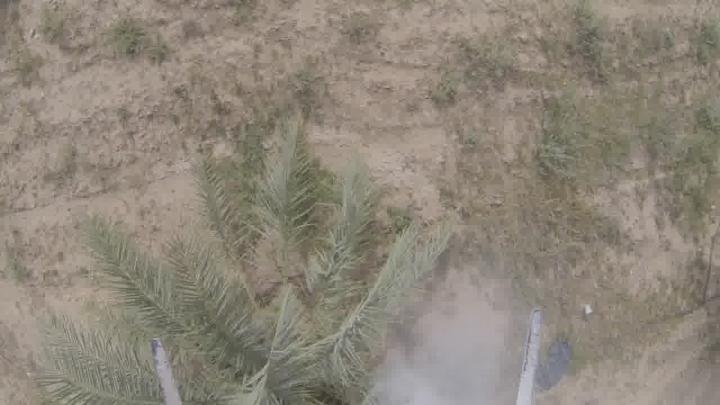Date-Palm-Crown: (165, 177, 455, 405)
